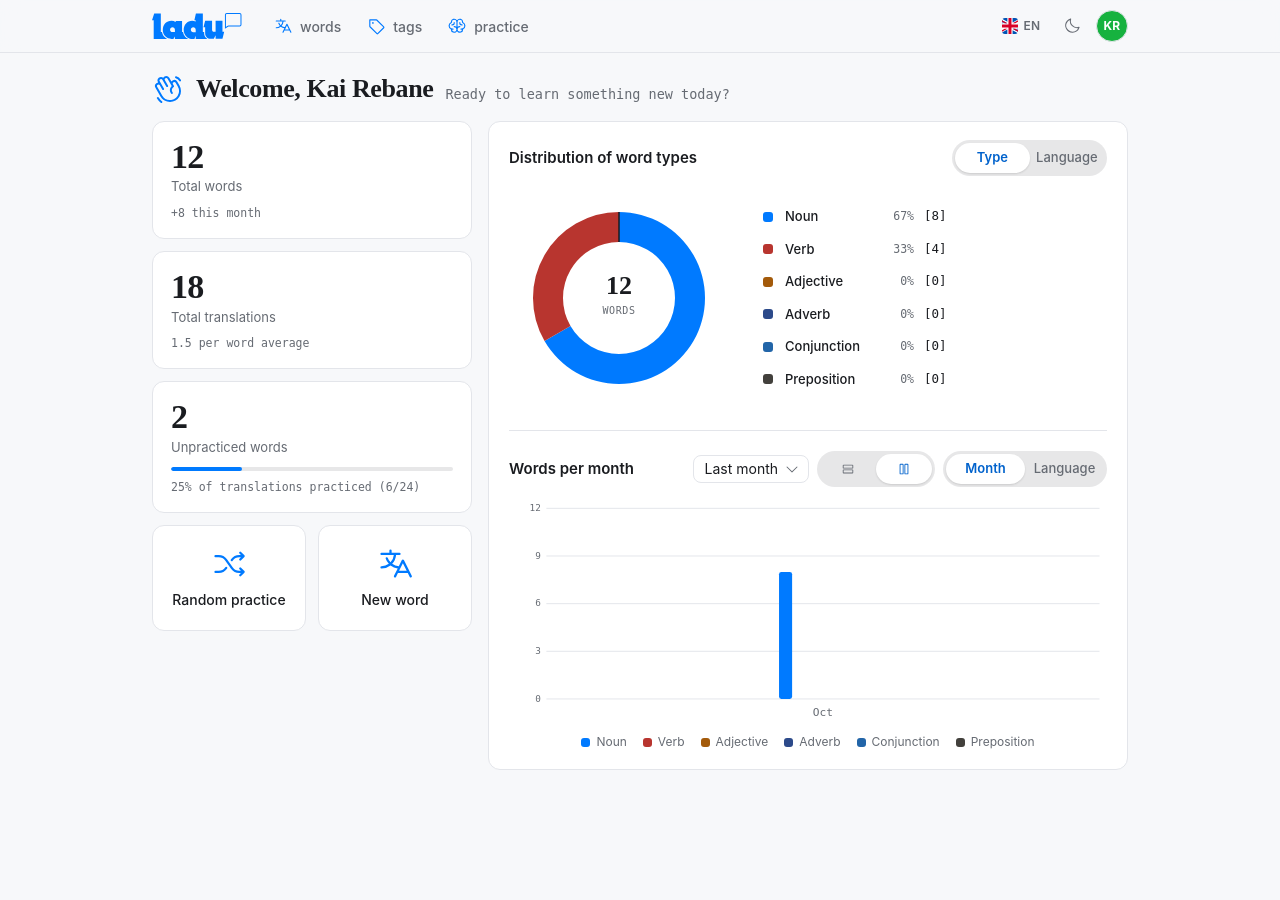
DashboardPage — MetricsPanel › switches the pie from word-type to language distribution
Expected: the picture named "Distribution of word types" is shown, [509, 188, 729, 408]
Click the radio button labelled "Language" in the row of "Distribution of word types". click: (1067, 158)
box: [1030, 143, 1104, 173]
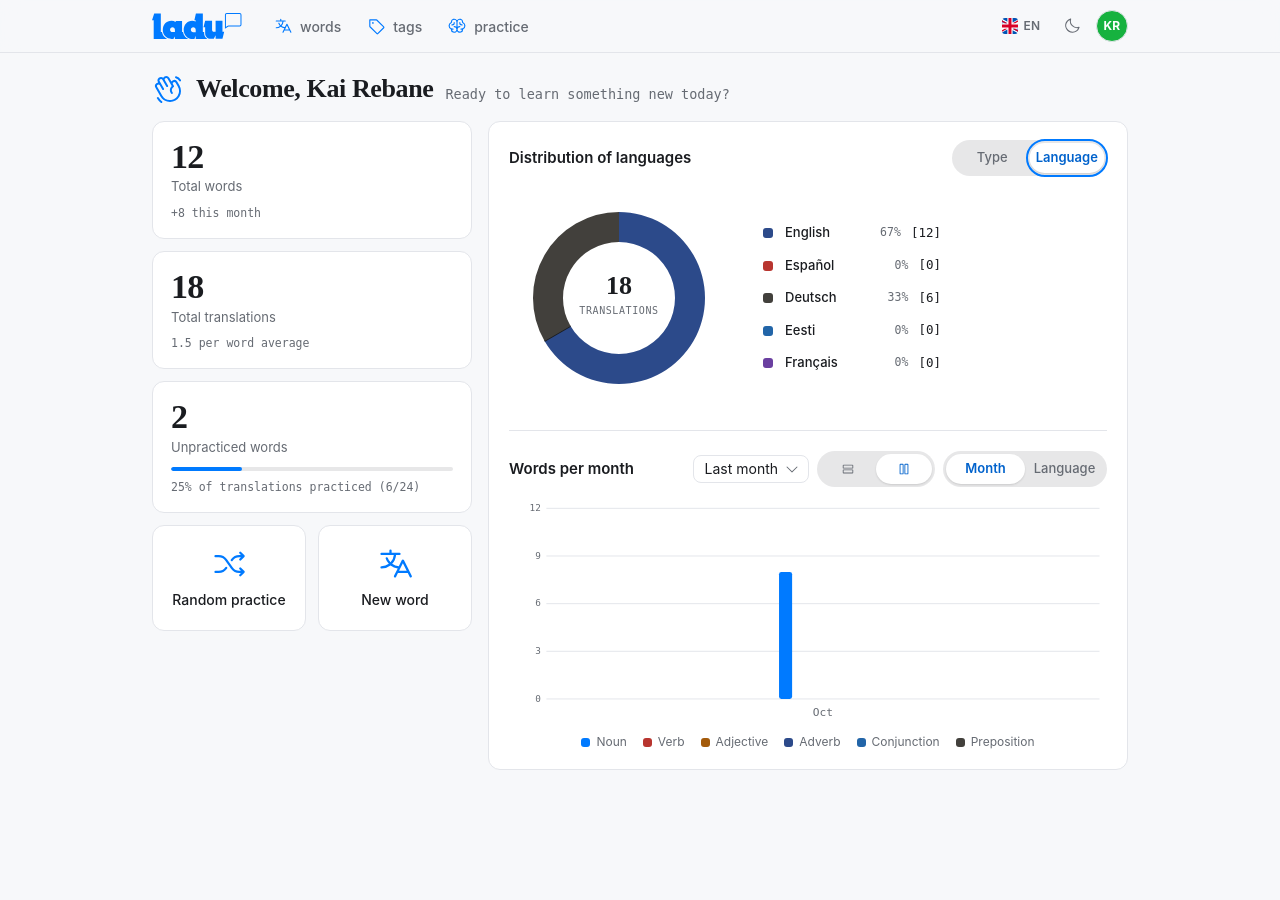
Expected: the picture named "Distribution of languages" is shown, [509, 188, 729, 408]
Expected: the text "Español" is shown, [785, 257, 834, 273]
